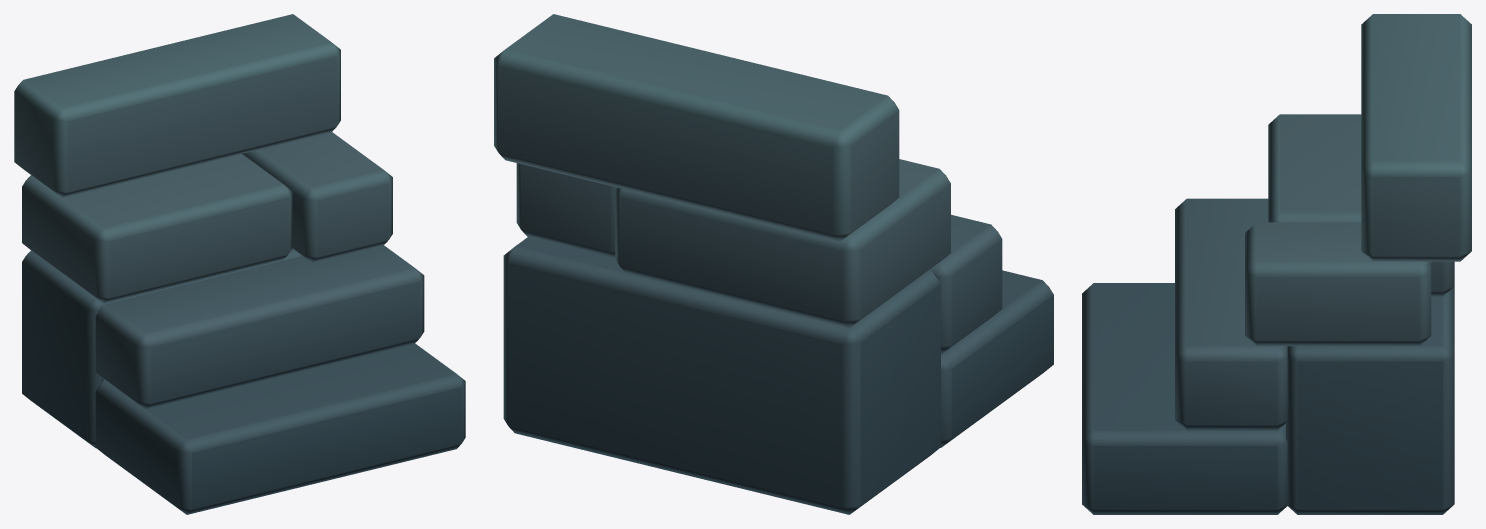
File: stair_straight_1.fbx
3 views of the same model, side by side, from view 1: azimuth 30°, elevation 25°; view 2: azimuth 150°, elevation 25°; view 3: azimuth 270°, elevation 25° (orthographic). The views are drawn at different scales.
Visible parts, largest first — view 1: stair_straight_1; view 2: stair_straight_1; view 3: stair_straight_1.
Part boxes in pixels (left/top/right/bottom): stair_straight_1: left=14, top=14, right=465, bottom=514; stair_straight_1: left=494, top=14, right=1053, bottom=514; stair_straight_1: left=1082, top=14, right=1471, bottom=514.
Size of the model in its own units: 100 by 105 by 105.
